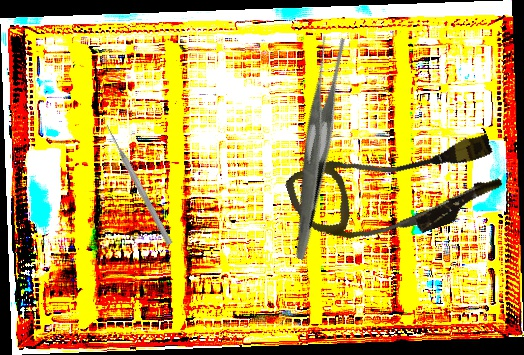Cannula: (282, 109, 511, 271)
Dressing Forceps: (228, 29, 402, 262)
Pusher: (102, 122, 175, 247)
